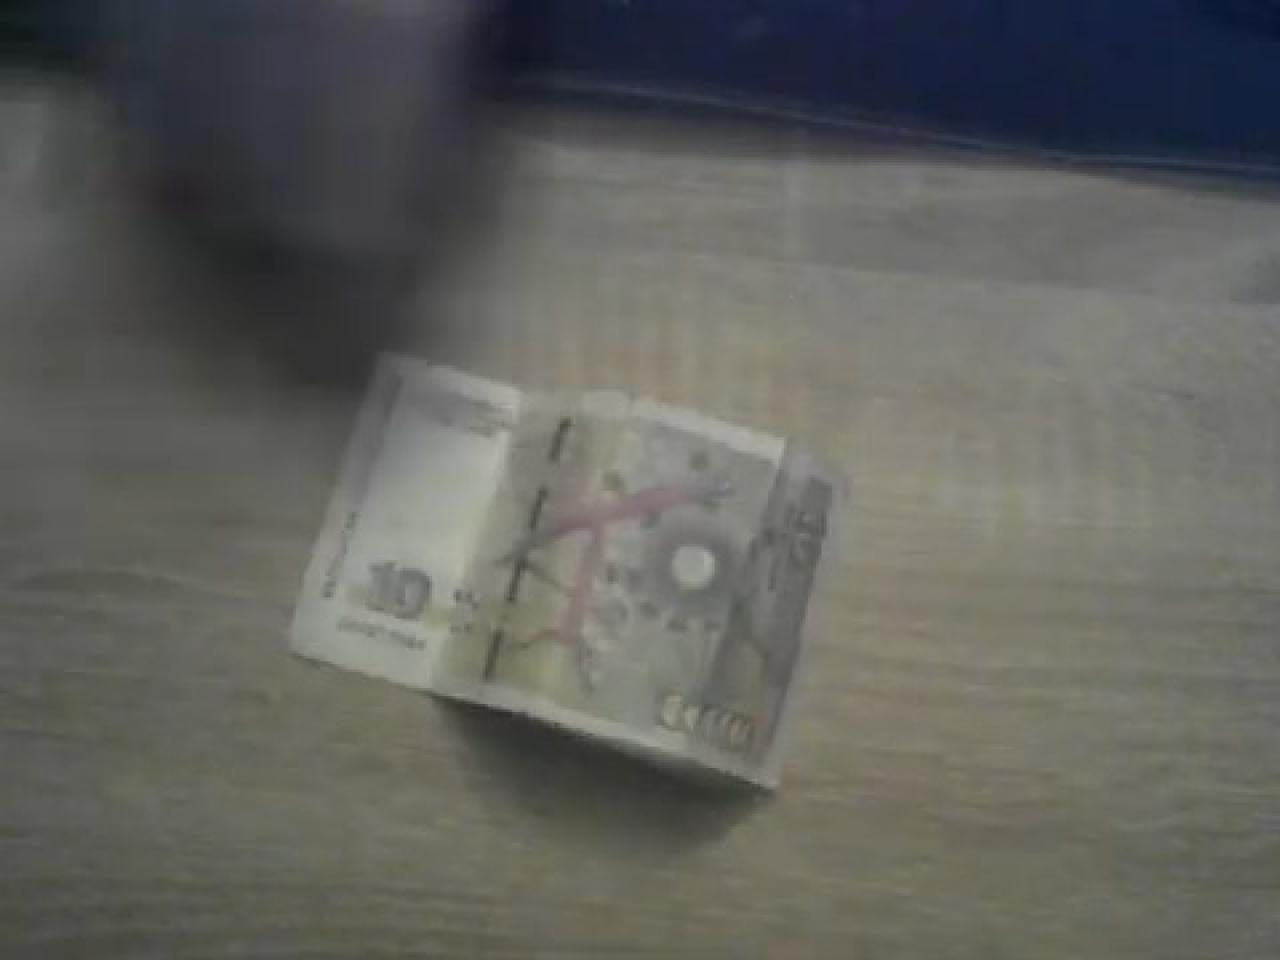10leva: (288, 355, 843, 795)
